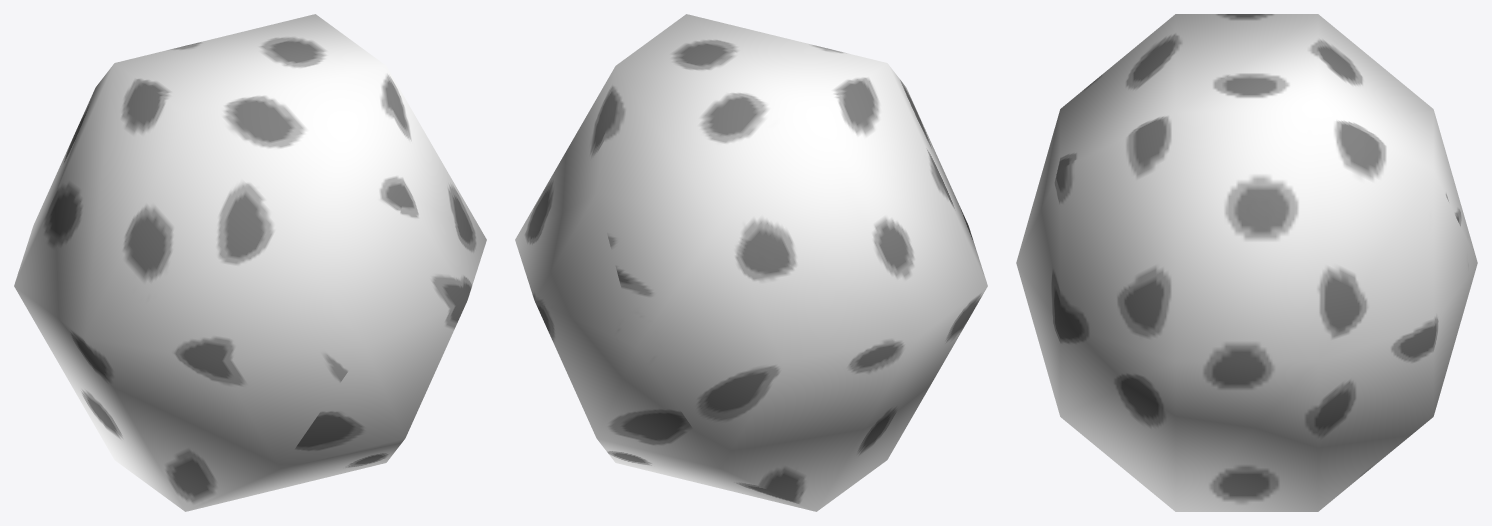
File: golf-ball.glb
The picture shows the model from 3 angles, left to right: view 1: azimuth 30°, elevation 25°; view 2: azimuth 150°, elevation 25°; view 3: azimuth 270°, elevation 25°; orthographic projection.
Parts seen in each view (by area): view 1: golf-ball; view 2: golf-ball; view 3: golf-ball.
Boxes of the visible parts, box(x1,y1,x2,y2) form: golf-ball: box(14, 14, 486, 511); golf-ball: box(515, 14, 987, 511); golf-ball: box(1016, 14, 1477, 511).
Size of the model in its own units: 0.252 by 0.2378 by 0.2492.
Materials: 1 (1 with a texture image).
